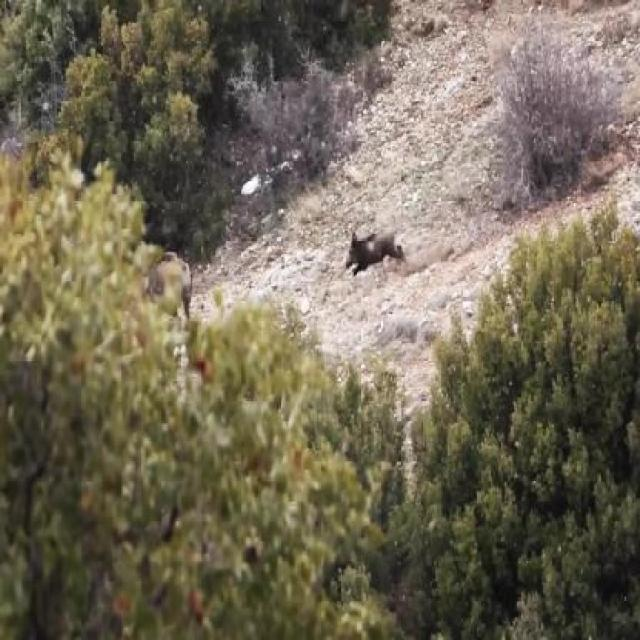pig: (338, 218, 409, 281)
